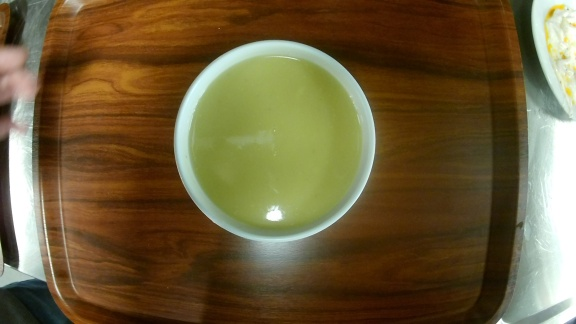mercimek: (167, 39, 381, 245)
